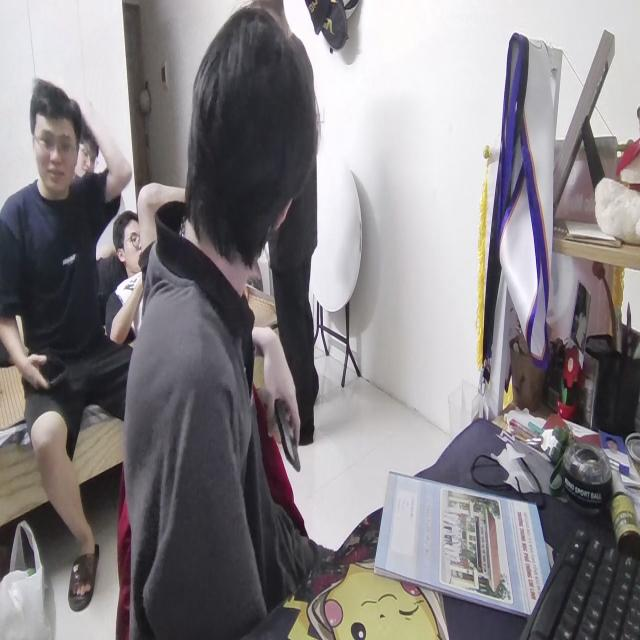book: (372, 467, 554, 628)
extra_person: (1, 73, 135, 622), (106, 205, 146, 349)
phone: (271, 384, 301, 476)
student: (123, 0, 331, 640)
